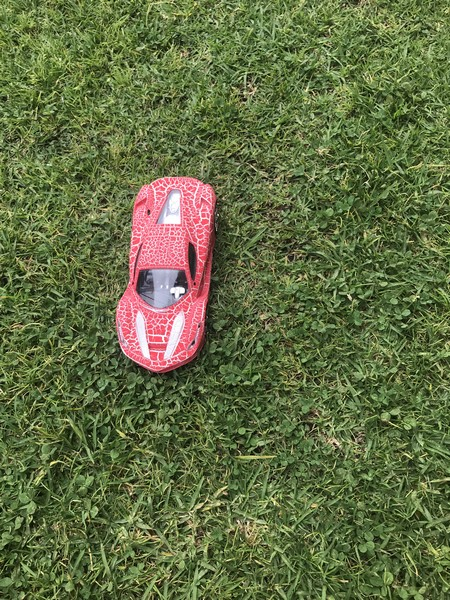RC: (115, 175, 218, 375)
